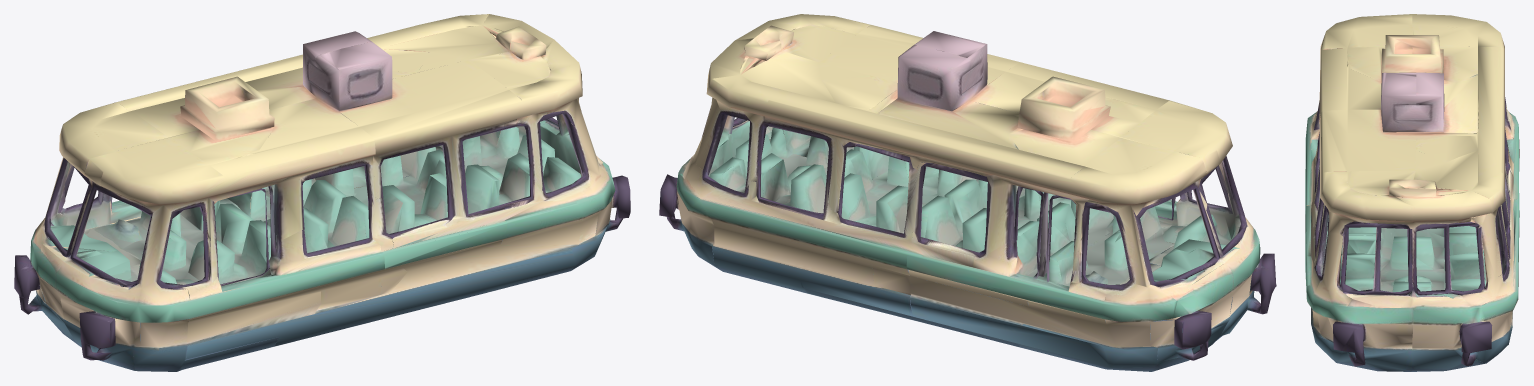
The model's file is M-13_04_waterbus.glb.
3 renders of one model, left to right at view 1: azimuth 30°, elevation 25°; view 2: azimuth 150°, elevation 25°; view 3: azimuth 270°, elevation 25°, orthographic. The views are drawn at different scales.
Visible parts, largest first — view 1: waterbus; view 2: waterbus; view 3: waterbus.
Boxes of the visible parts, x1,y1,x2,y2 form: waterbus: (14, 14, 630, 371); waterbus: (659, 14, 1276, 371); waterbus: (1305, 14, 1519, 371).
Size of the model in its own units: 9.02 by 3.72 by 3.56.
1 material, 1 textured.
